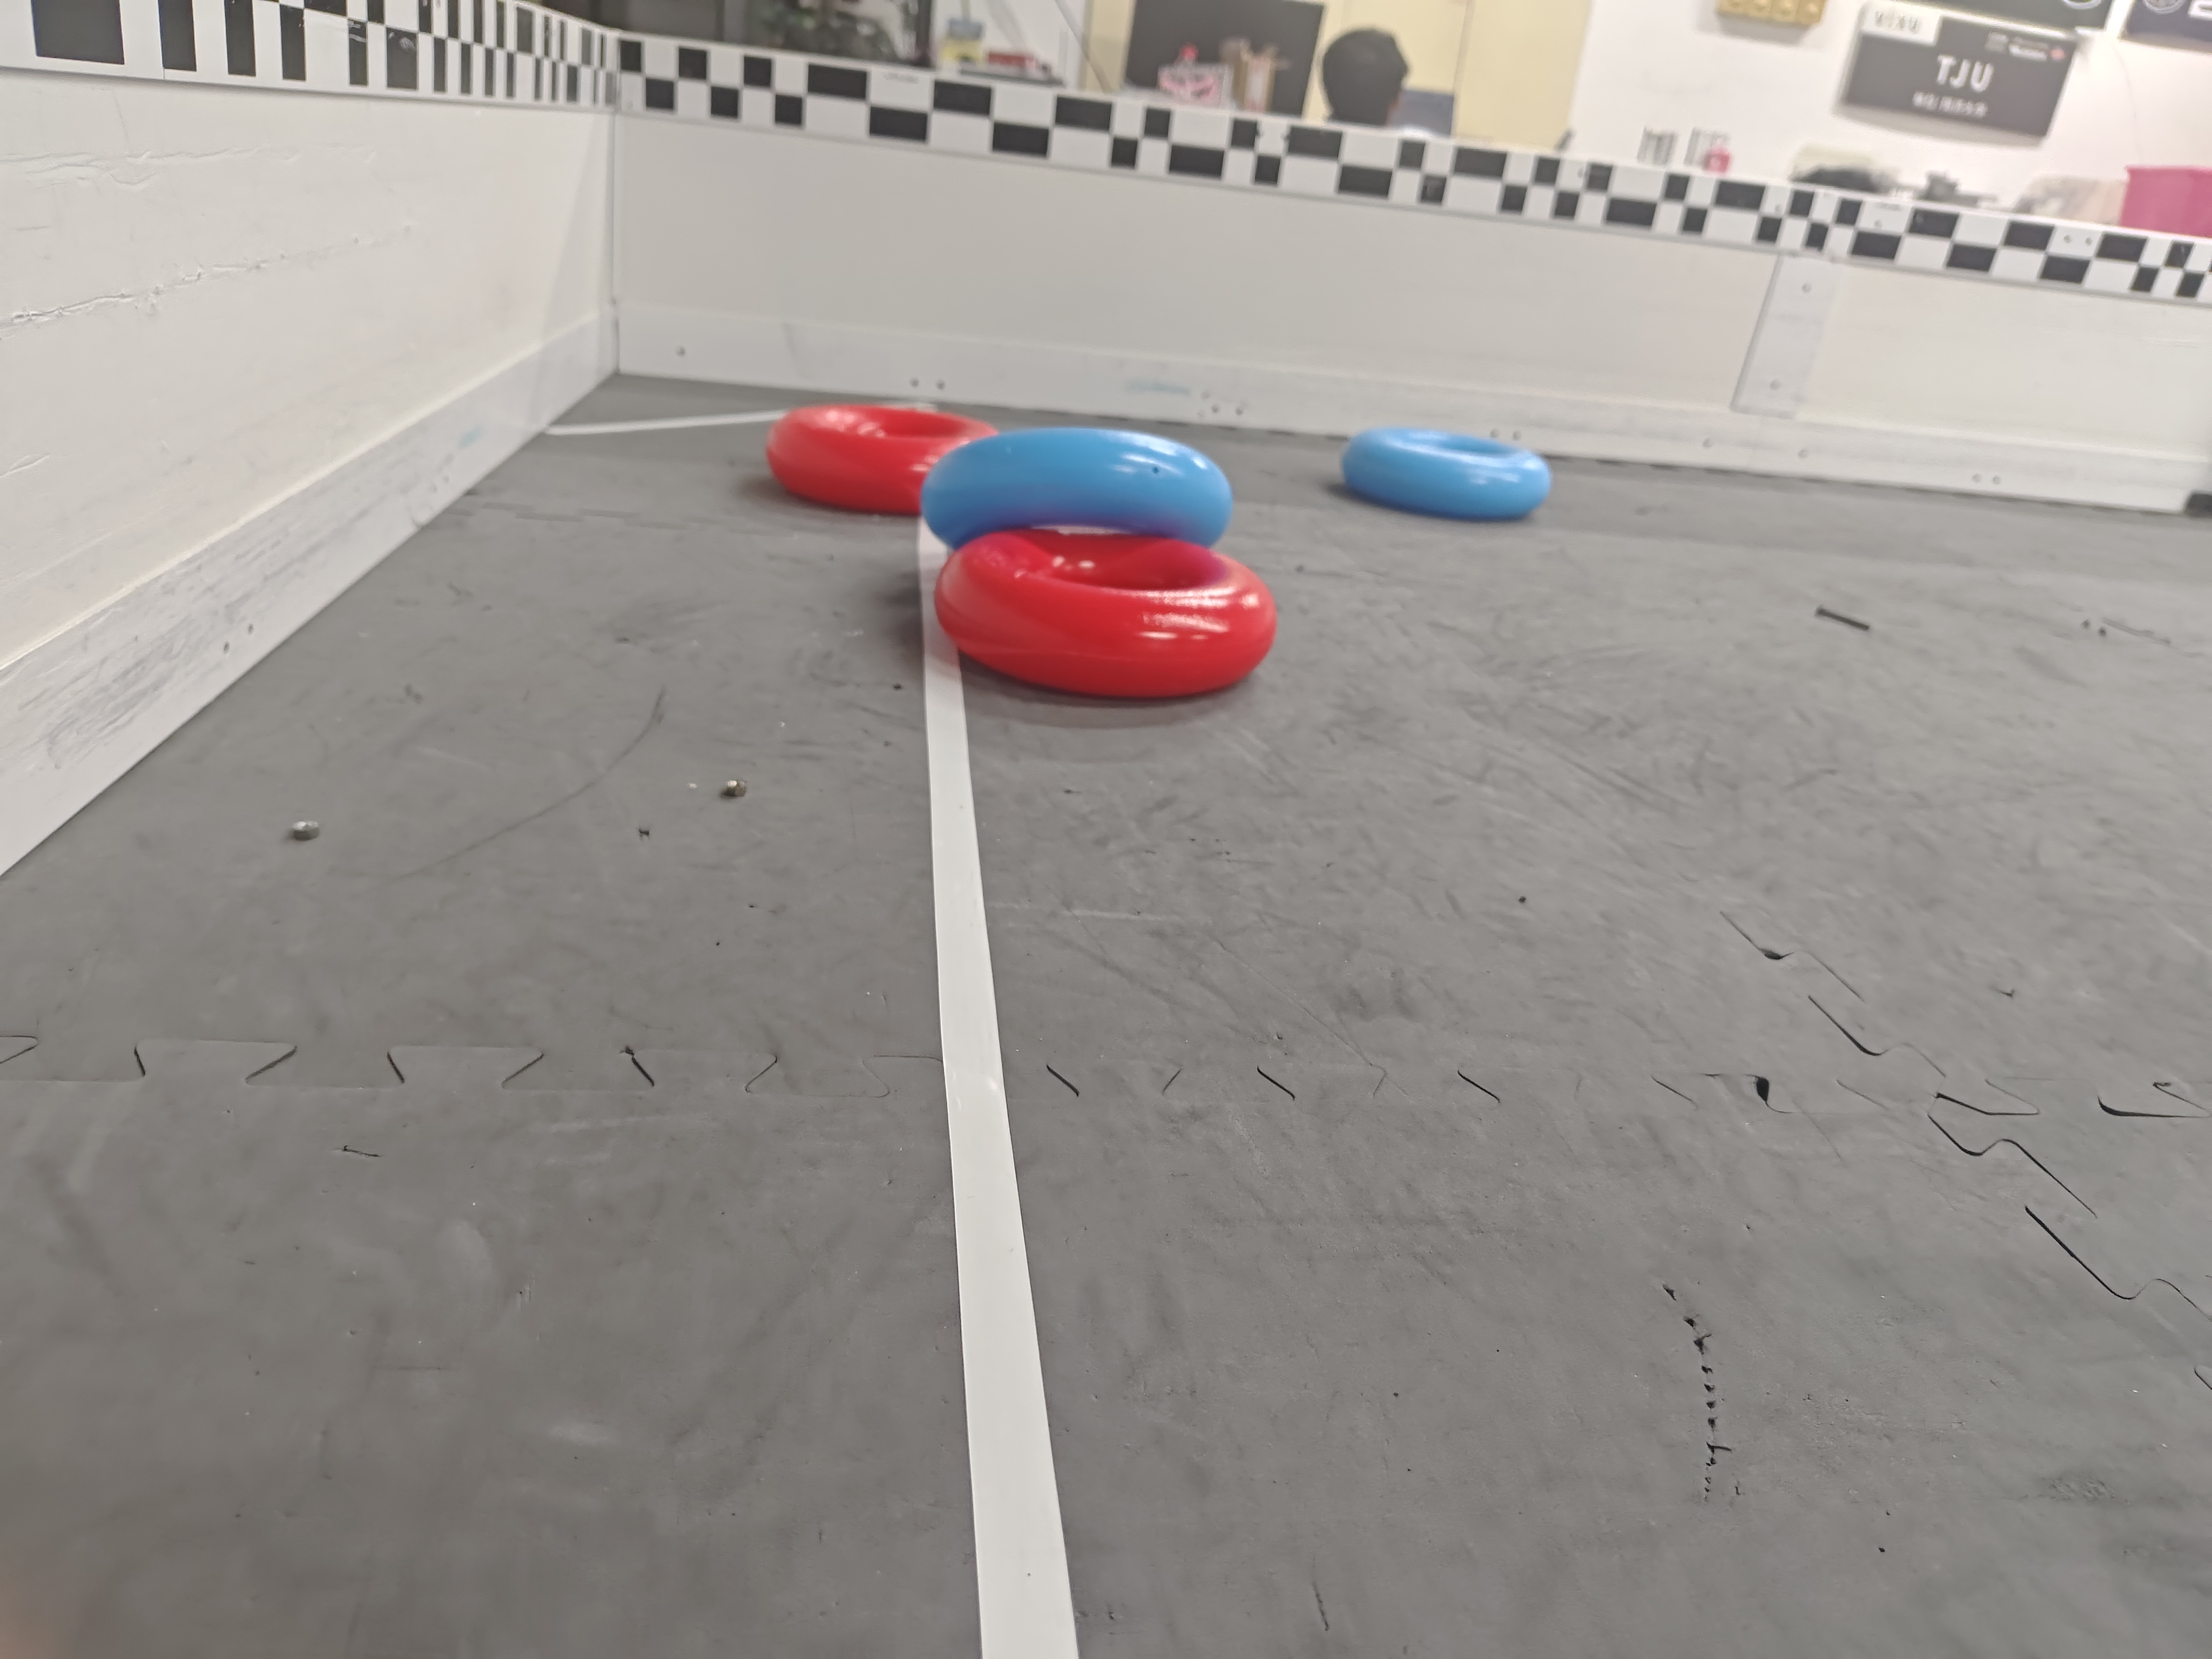blue: (921, 429, 1235, 556), (1332, 425, 1559, 525)
red: (941, 526, 1285, 708), (763, 394, 1024, 516)
